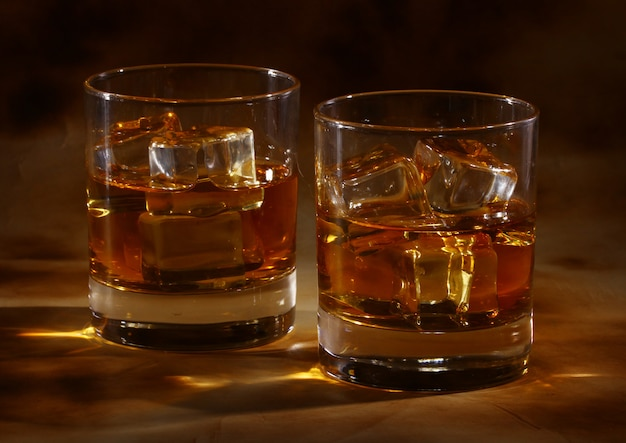alcohol: (313, 92, 541, 396), (82, 63, 300, 353)
